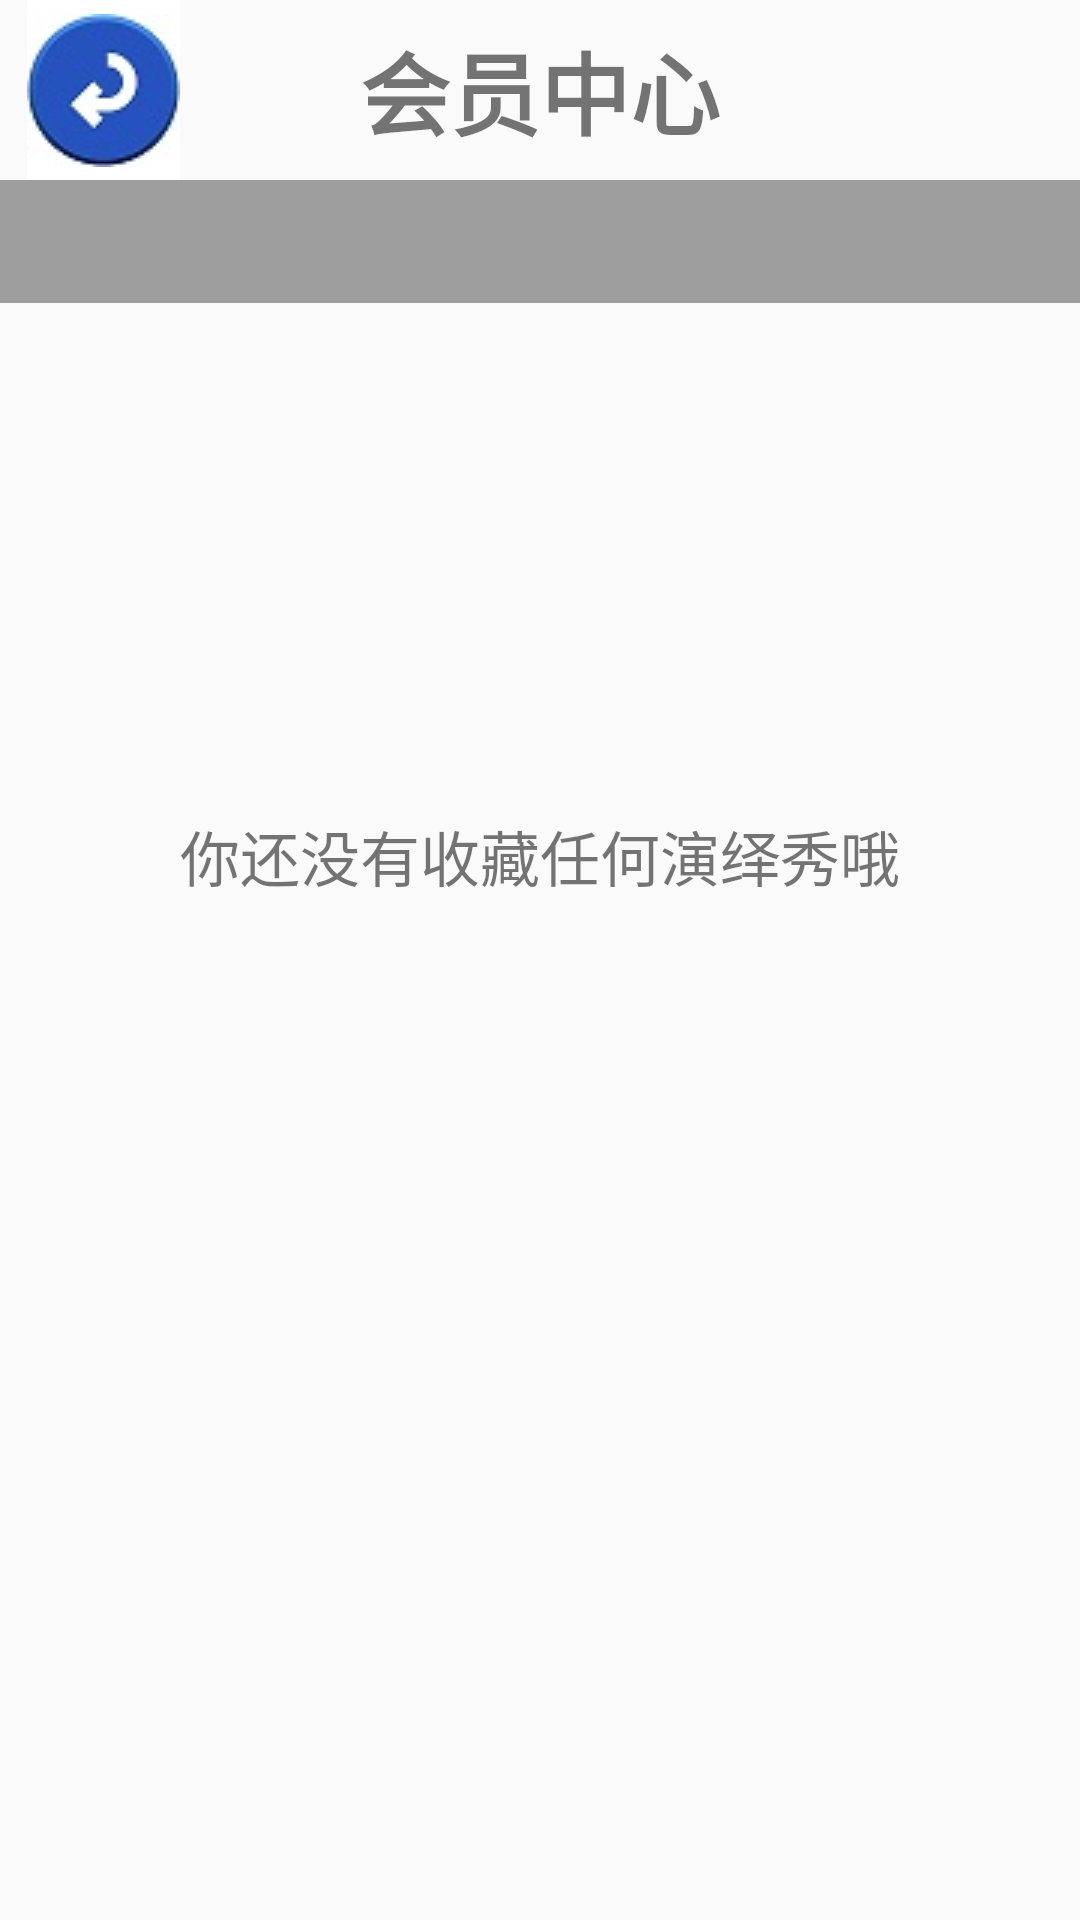

Icons on this 1080px×1920px Android screen, each with the point to tap as [x,y]:
fanhui: [103,90]
